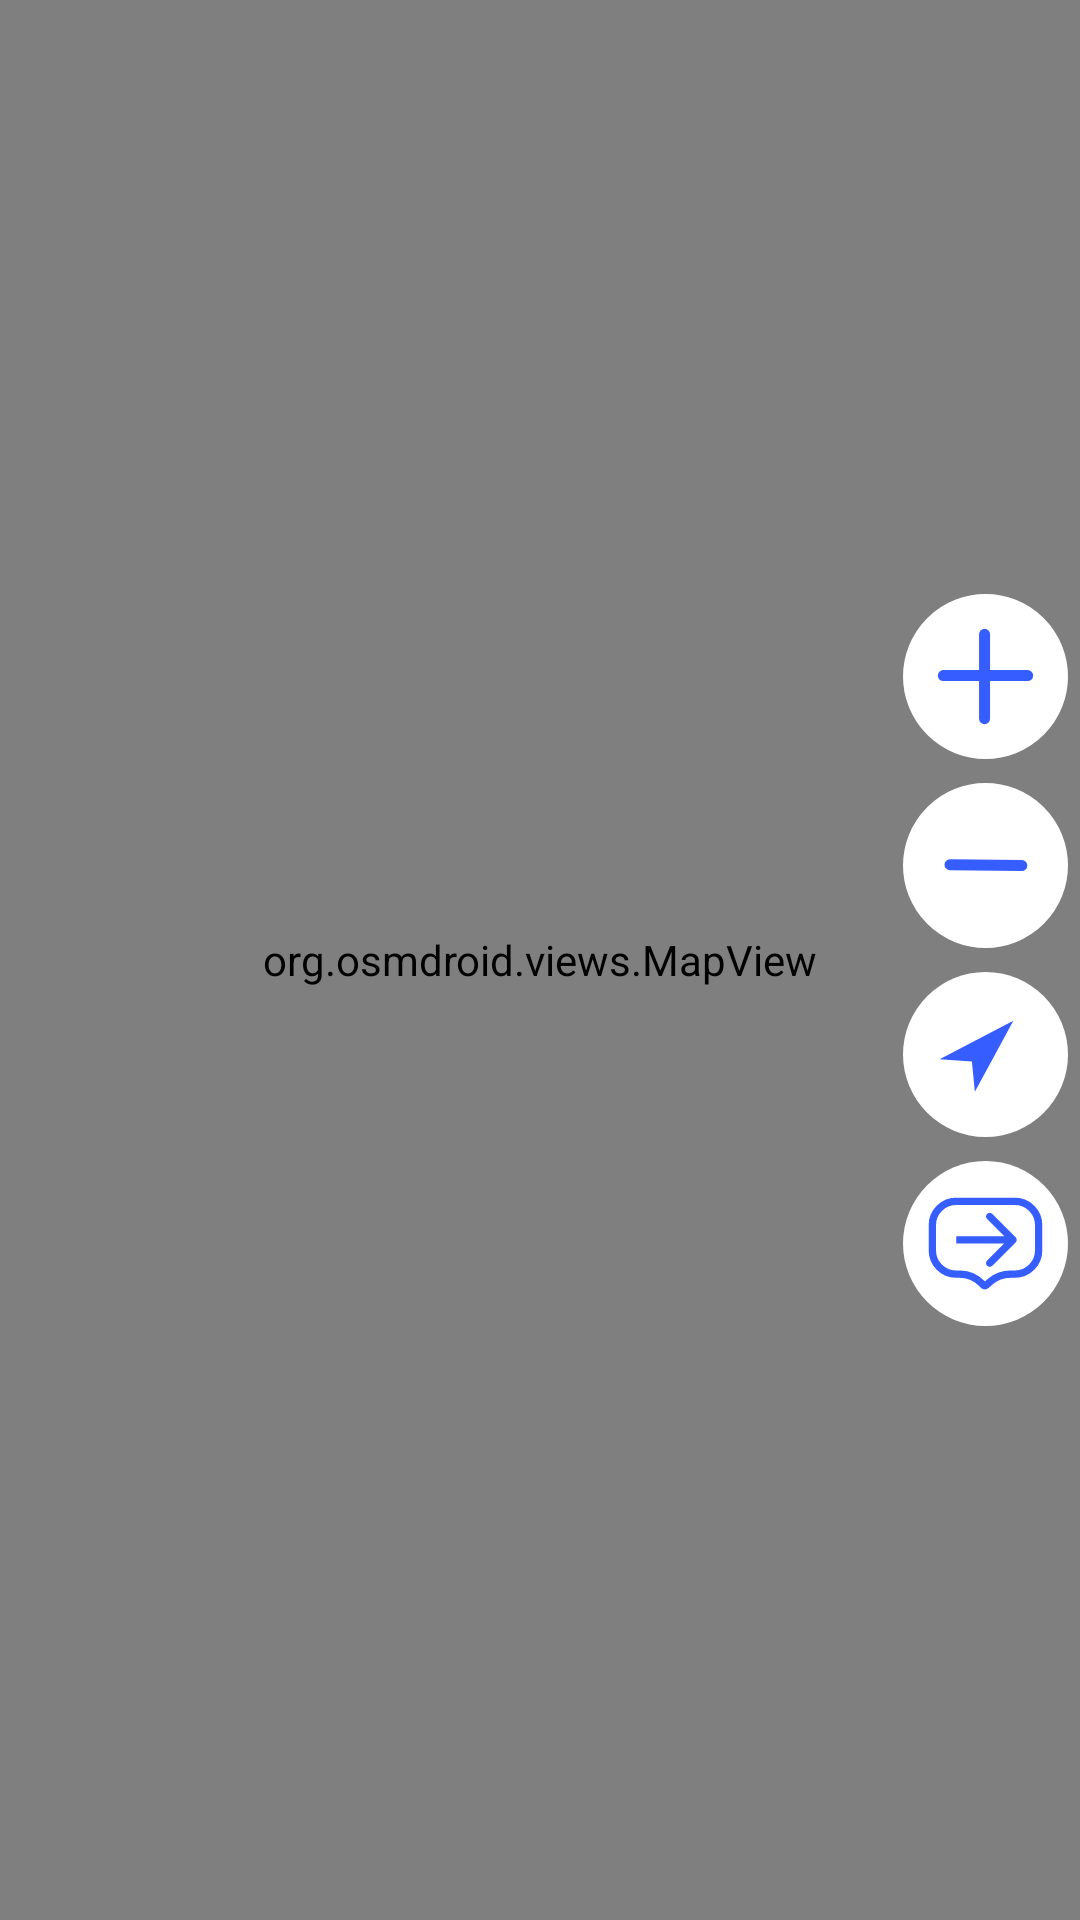

Screen size 1080w x 1920h. Icon name, then its box in pixels as {"left": x1, "top": y1, "right": x2, "bottom": y2}:
location: {"left": 903, "top": 972, "right": 1068, "bottom": 1137}
zoom minus: {"left": 903, "top": 783, "right": 1068, "bottom": 948}
zoom plus: {"left": 903, "top": 594, "right": 1068, "bottom": 759}
